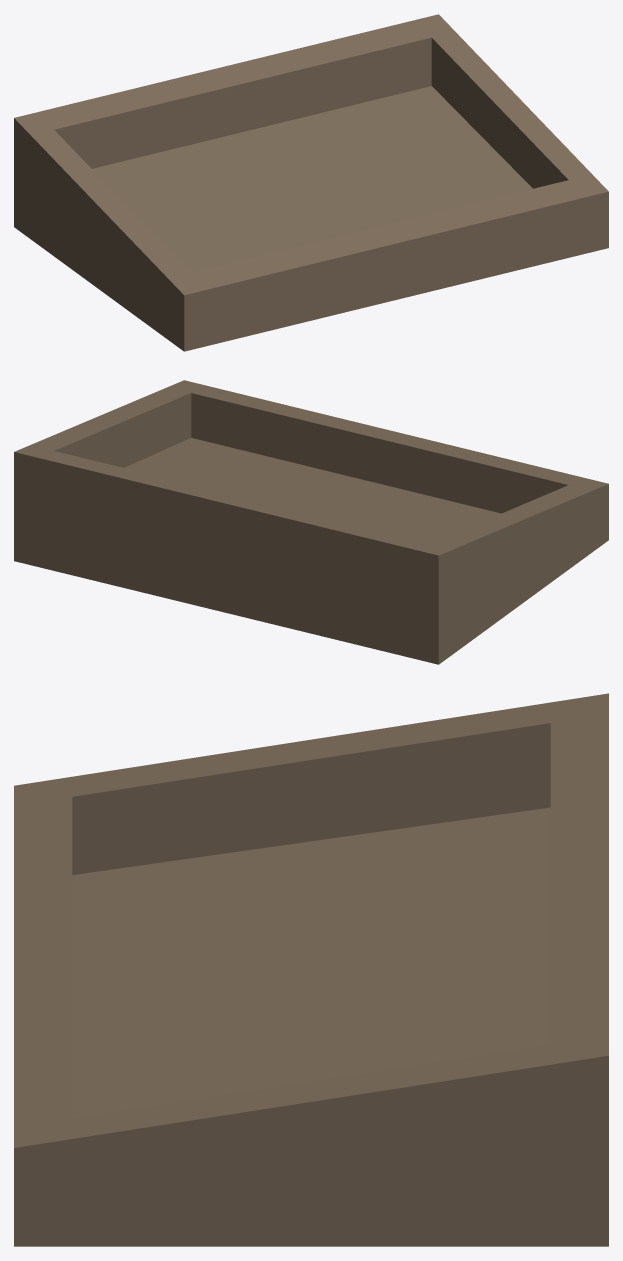
Rendered from PS_Bin01.fbx.
3 views of the same model, one above another, from view 1: azimuth 30°, elevation 25°; view 2: azimuth 150°, elevation 25°; view 3: azimuth 270°, elevation 25° (orthographic). The views are drawn at different scales.
Visible parts, largest first — view 1: PS_Bin01; view 2: PS_Bin01; view 3: PS_Bin01.
Boxes of the visible parts, x1,y1,x2,y2 form: PS_Bin01: (14, 14, 608, 351); PS_Bin01: (14, 380, 608, 664); PS_Bin01: (14, 693, 608, 1246).
Size of the model in its own units: 0.9 by 0.2211 by 0.6247.
